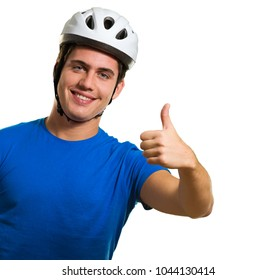helmet: (53, 7, 139, 122)
